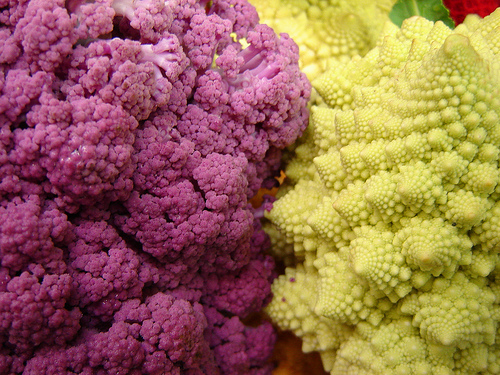cauliflower: (1, 0, 314, 373), (245, 0, 499, 374), (235, 1, 403, 93)
